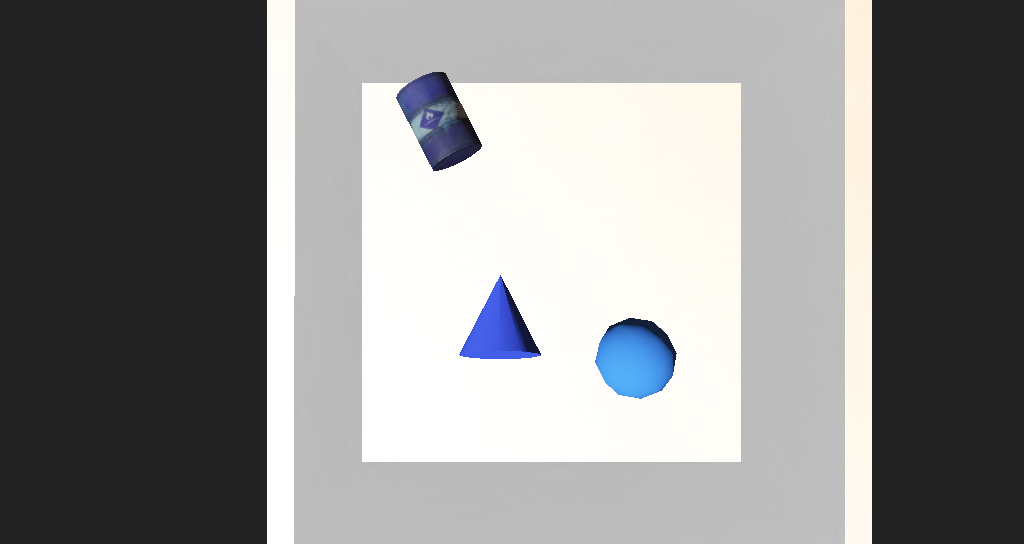cone: (381, 155, 455, 217)
cylinder: (435, 262, 495, 320)
sphere: (542, 291, 603, 339)
